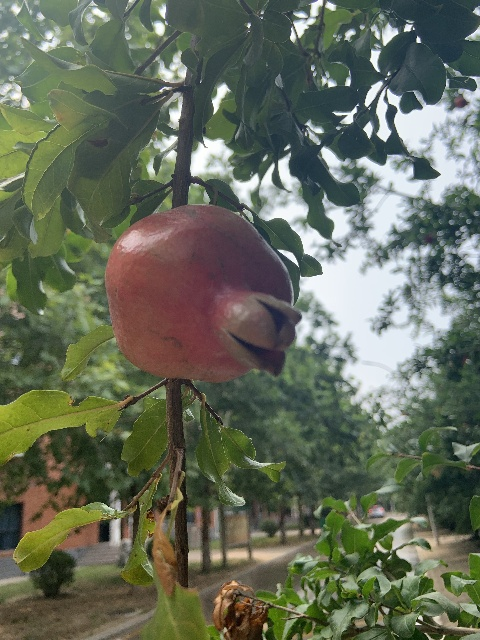ripe: (104, 205, 300, 381)
